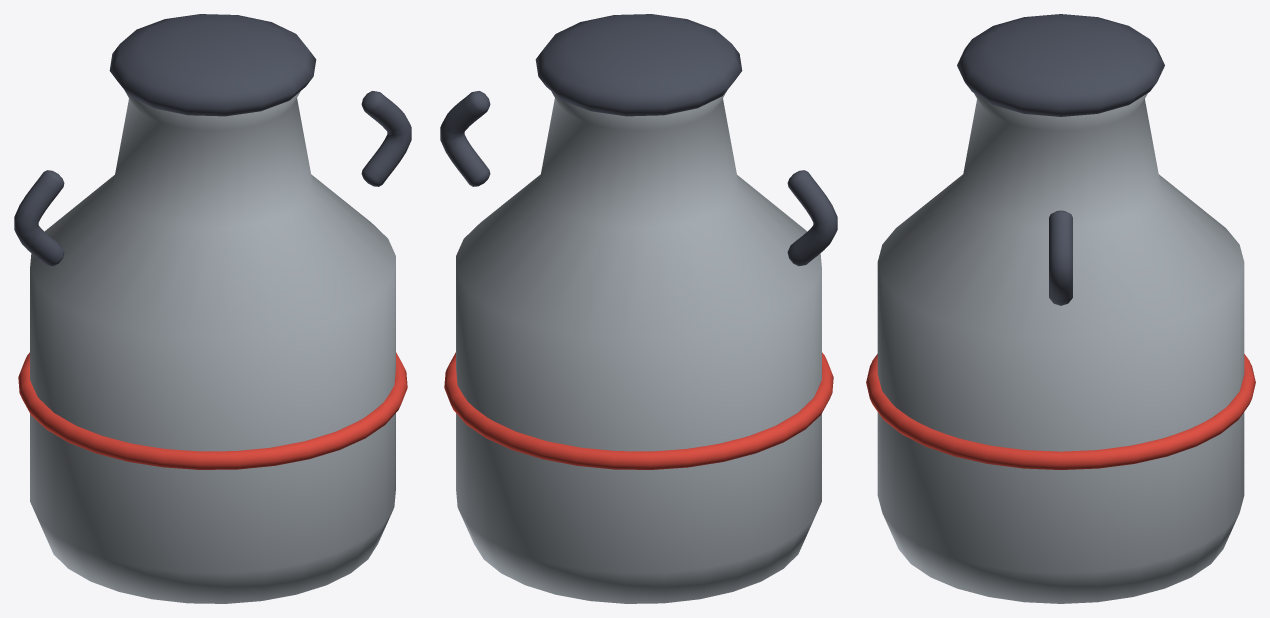
The model's file is milchkanne.glb.
3 views of the same model, side by side, from view 1: azimuth 30°, elevation 25°; view 2: azimuth 150°, elevation 25°; view 3: azimuth 270°, elevation 25° (orthographic).
Visible parts, largest first — view 1: milchkanne-metall, milchkanne-lack; view 2: milchkanne-metall, milchkanne-lack; view 3: milchkanne-metall, milchkanne-lack.
Part boxes in pixels (x1,y1,x2,y2): milchkanne-metall: [14, 14, 411, 603]; milchkanne-lack: [18, 352, 407, 469]; milchkanne-metall: [440, 14, 837, 603]; milchkanne-lack: [444, 352, 833, 469]; milchkanne-metall: [877, 14, 1244, 603]; milchkanne-lack: [866, 354, 1255, 469].
Size of the model in its own units: 0.5453 by 0.6575 by 0.468.
